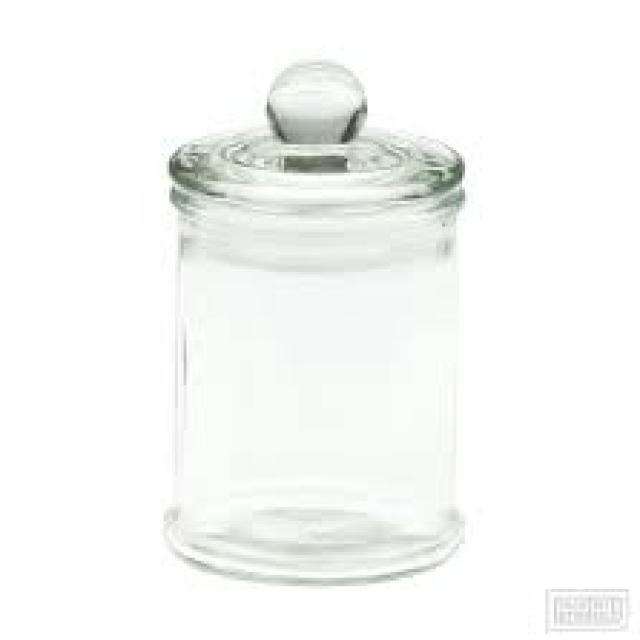glass: (167, 60, 462, 578)
